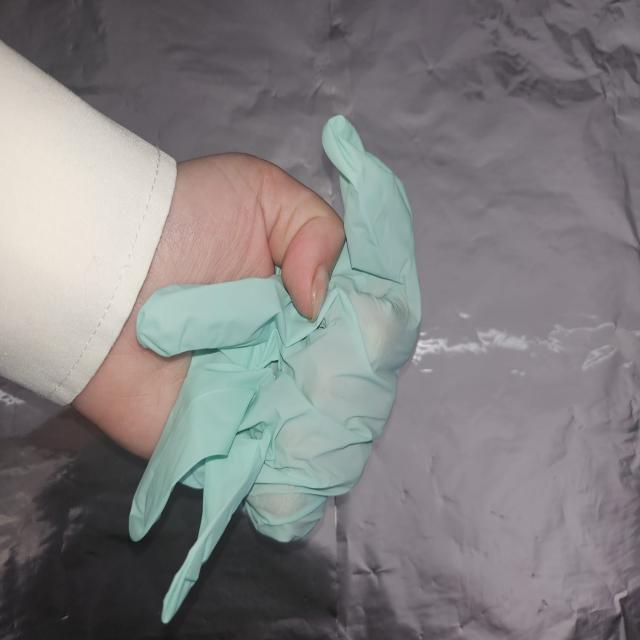glove_partial: (74, 111, 422, 617)
